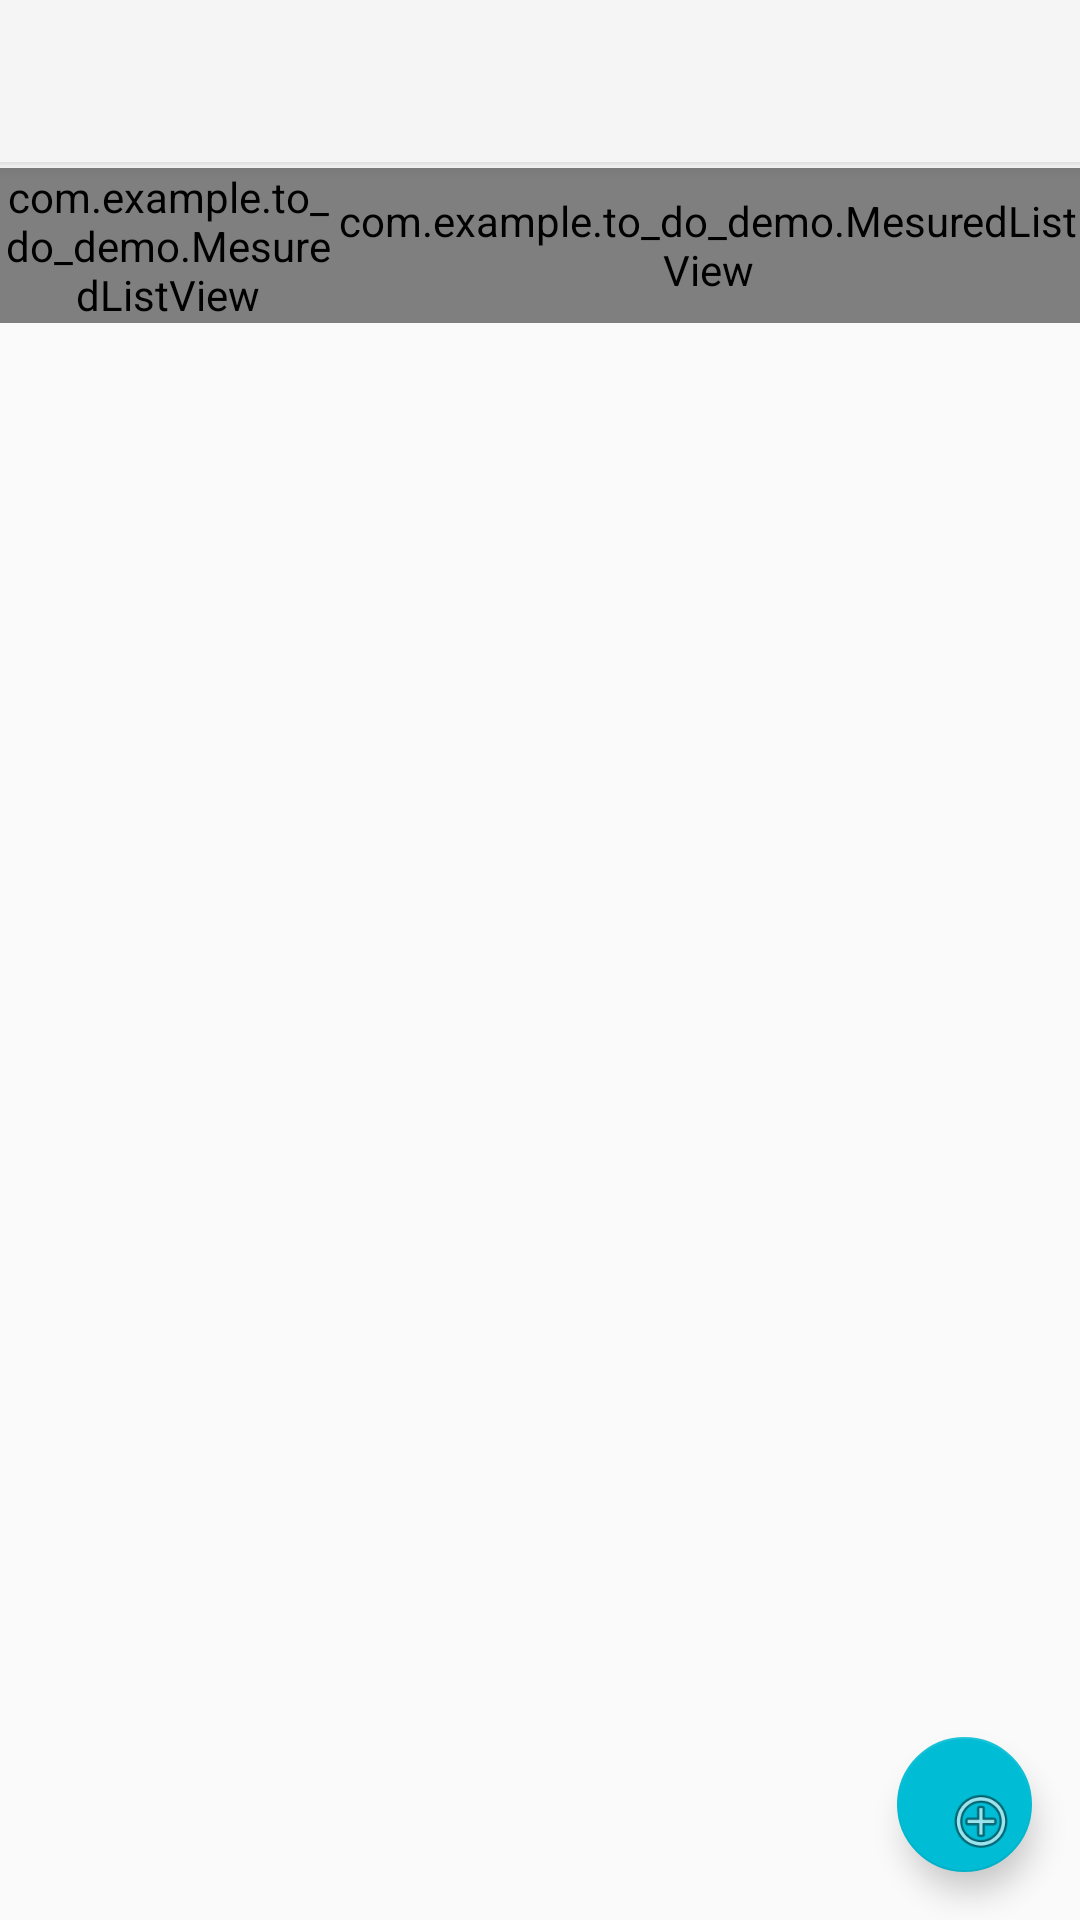

Screen size 1080px×1920px. Icon name, then its center in pixels as point (x, y):
add: point (964, 1804)
